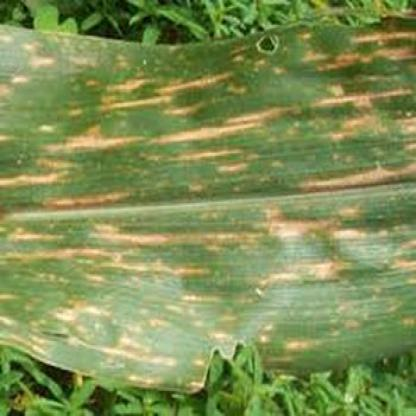Corn Gray leaf spot: (1, 17, 415, 399)
